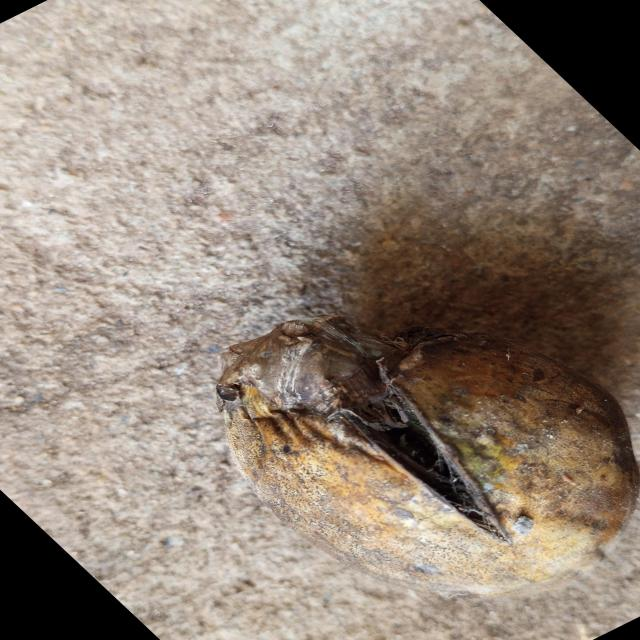damaged: (216, 315, 638, 595)
